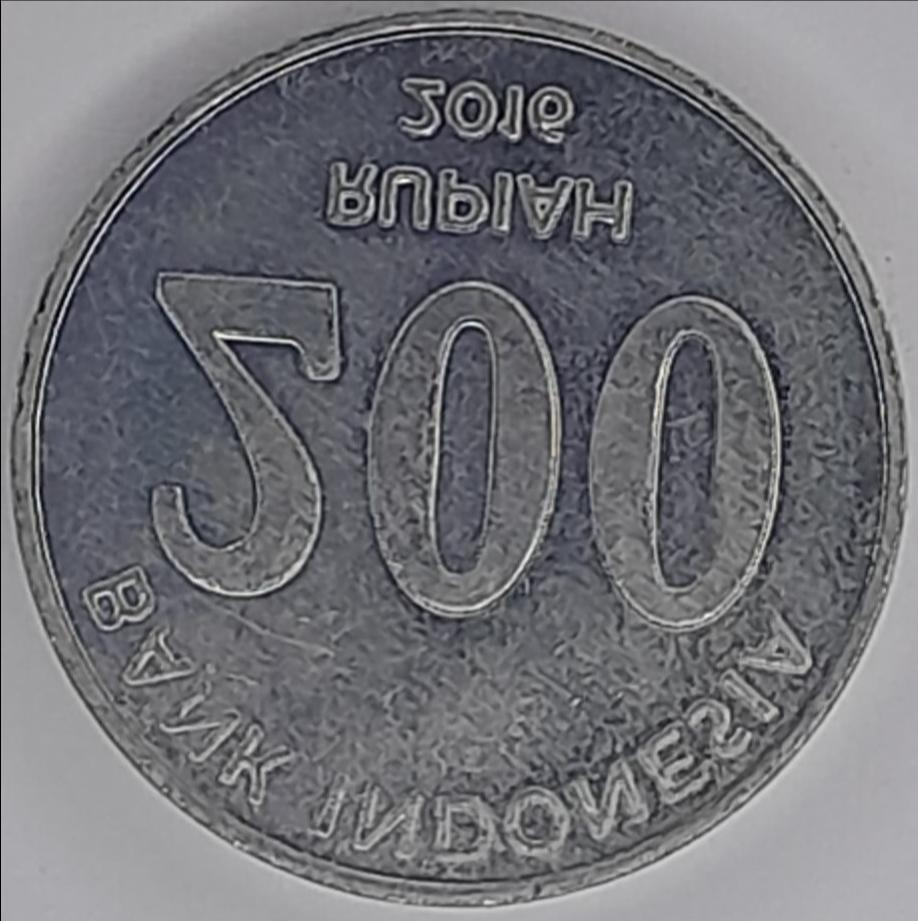coin_200_e2016: (0, 16, 918, 921)
